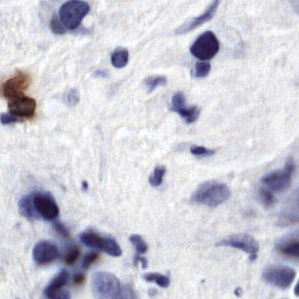Lymphocyte: (8, 96, 37, 119)
